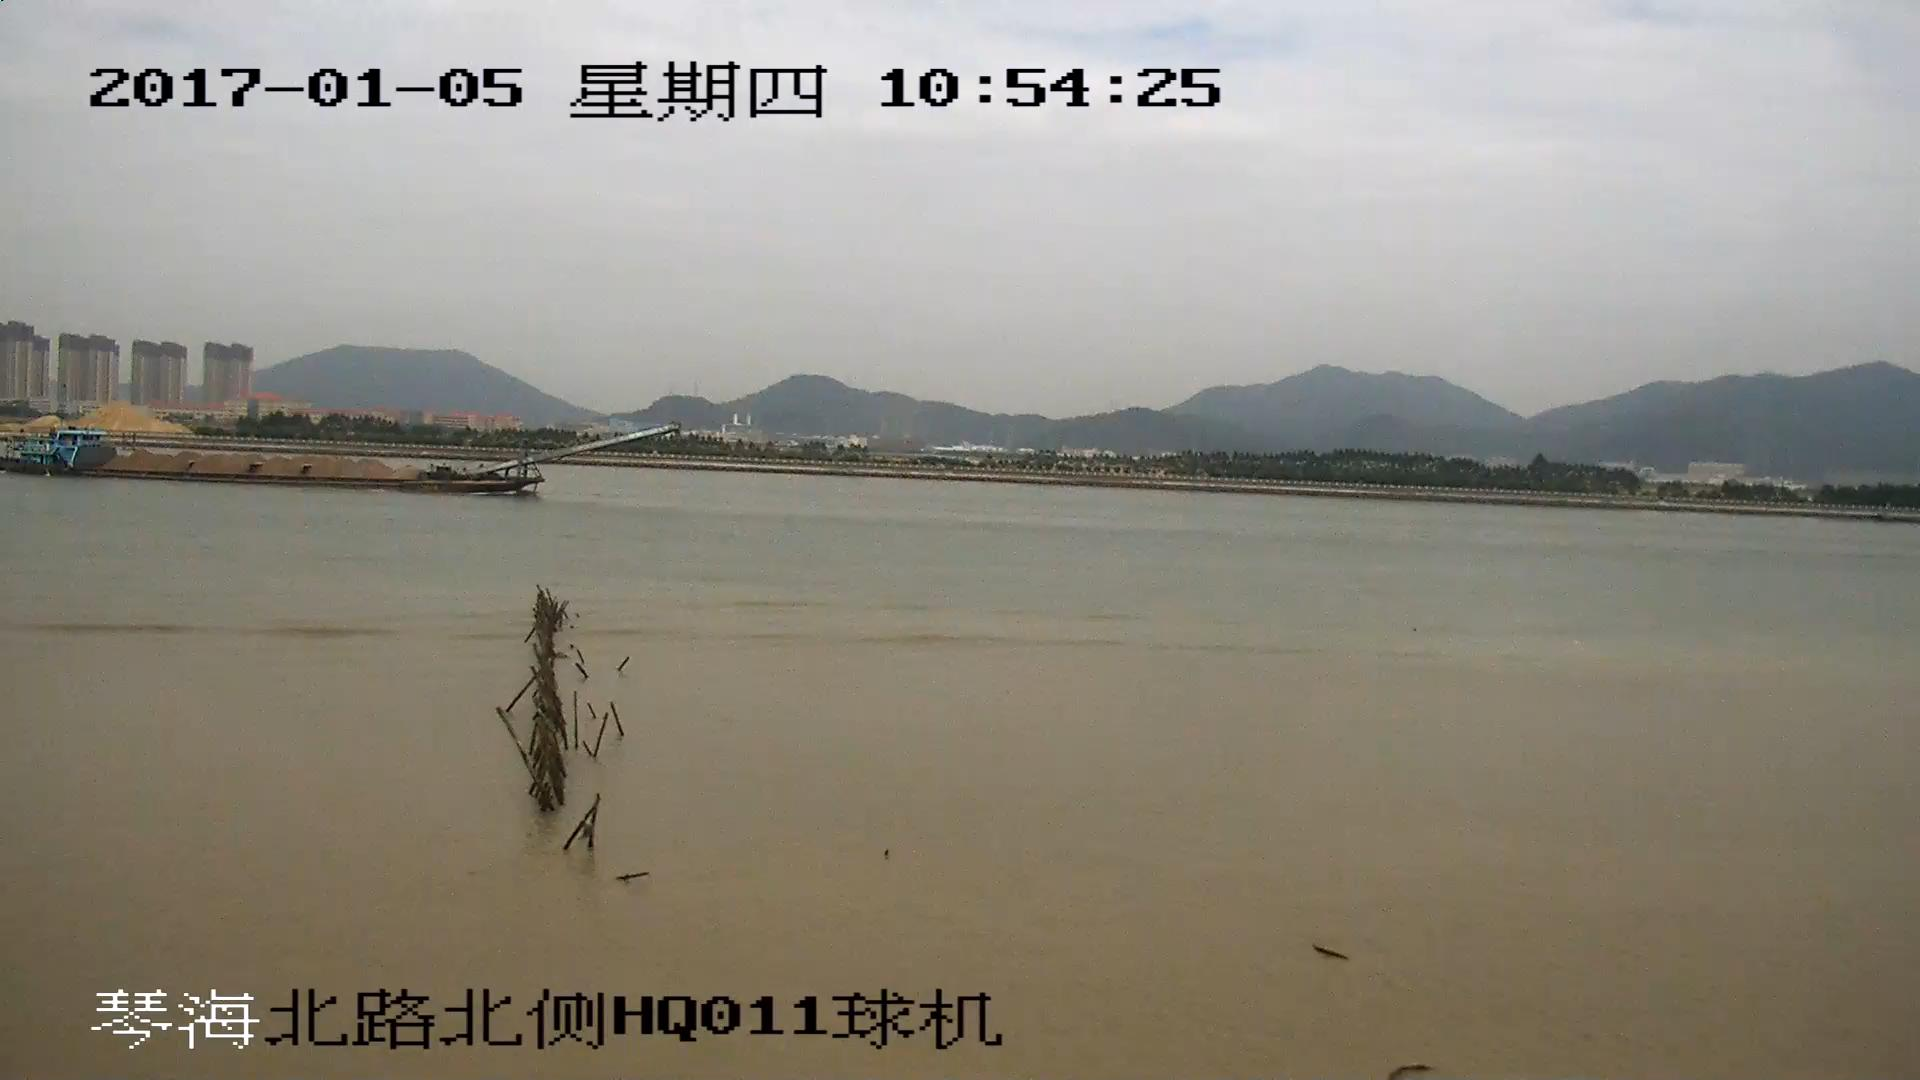ore carrier: (1, 426, 676, 494)
